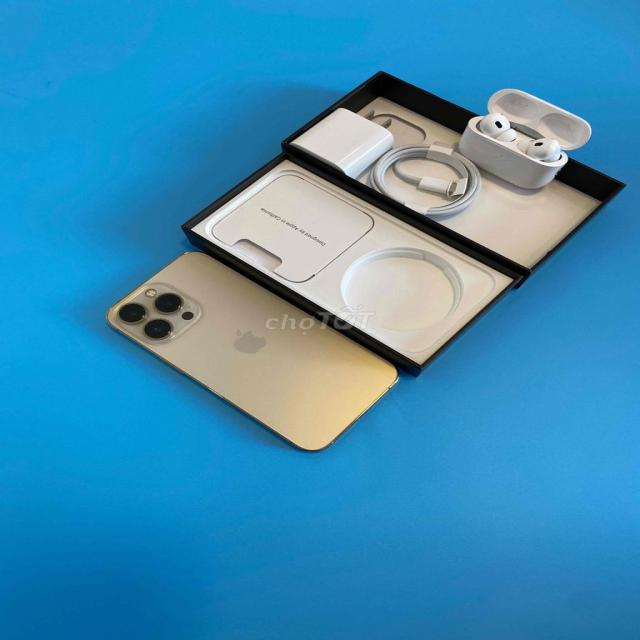gen_12_13: (105, 248, 401, 451)
